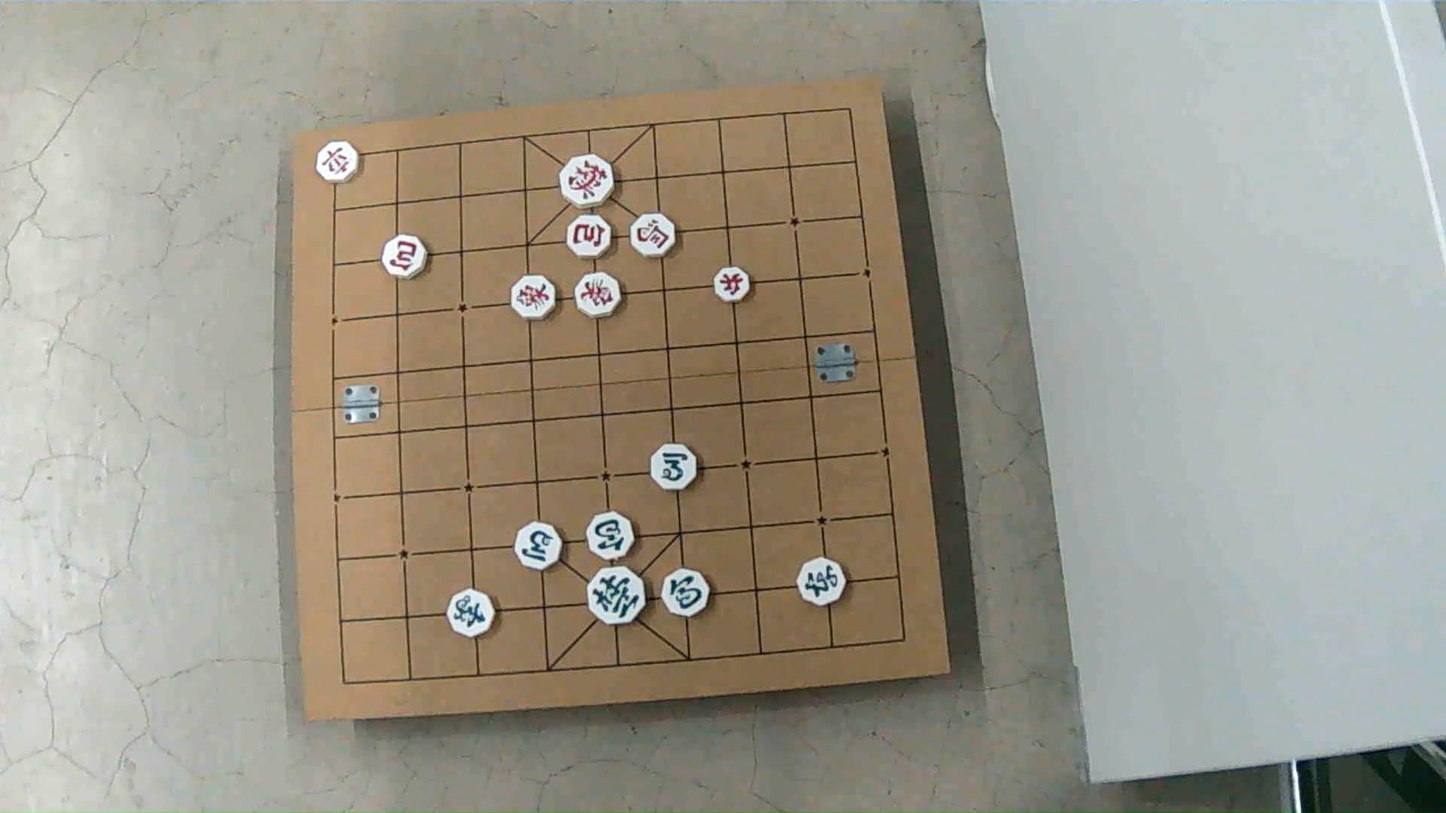cha_green: (797, 559, 844, 605)
cha_red: (316, 143, 358, 184)
jol_red: (715, 266, 750, 303)
ma_green: (516, 522, 563, 570), (649, 443, 697, 489)
ma_red: (630, 213, 676, 256)
po_green: (587, 513, 634, 562), (662, 568, 710, 615)
po_red: (383, 233, 428, 277), (567, 215, 612, 257)
sang_green: (448, 591, 496, 638)
sang_red: (575, 273, 623, 318), (509, 278, 554, 321)
wang_green: (587, 567, 645, 625)
wang_red: (559, 156, 612, 207)
